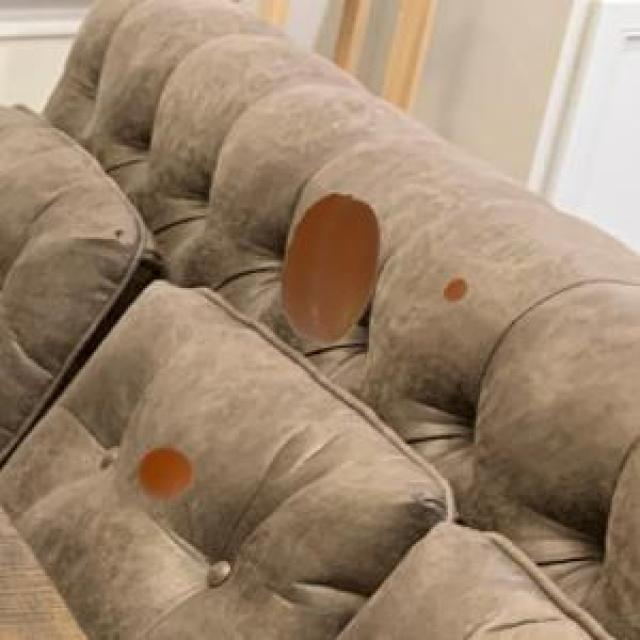Bactidol: (271, 175, 392, 356), (132, 437, 200, 513), (439, 268, 473, 320)
